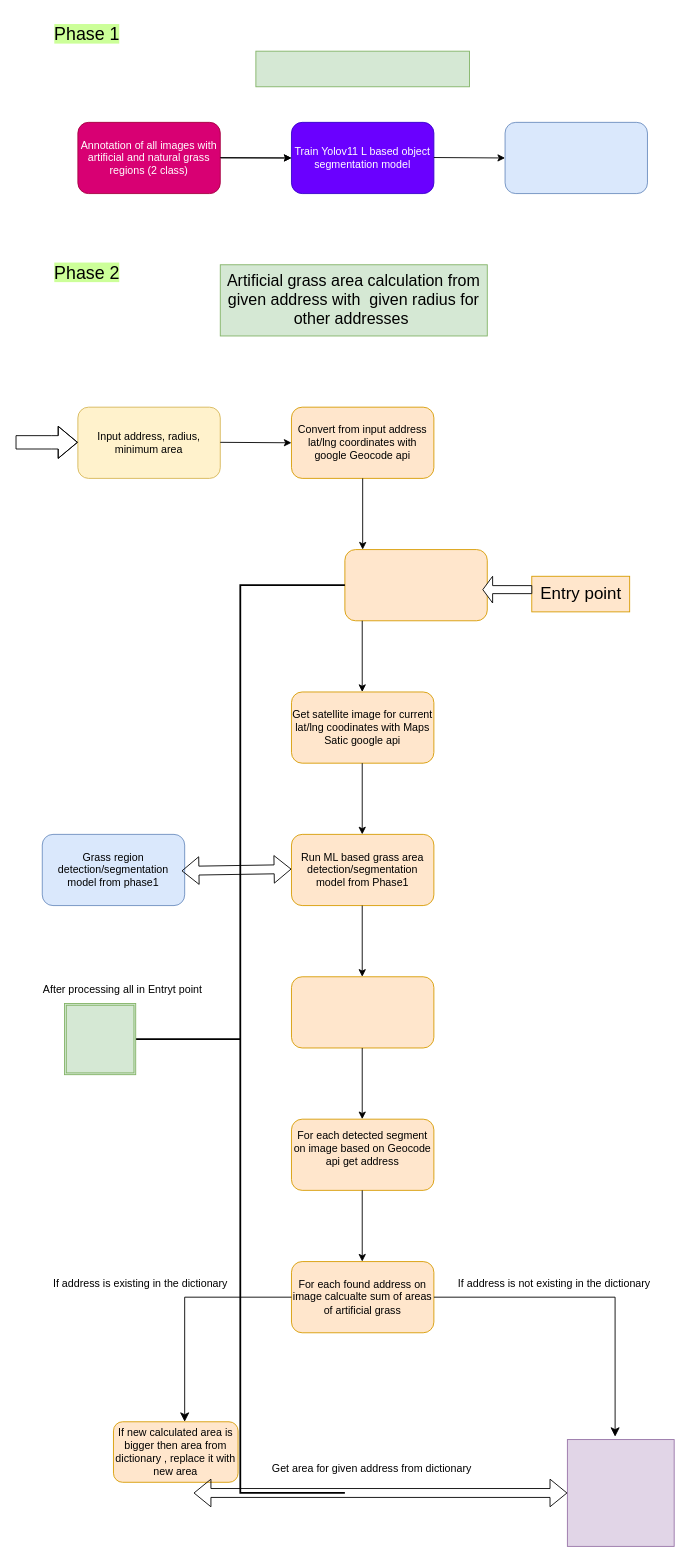
The diagram is 690 pixels wide and 1562 high, and some of its shapes have lost their labels. Each missing label, with the centre of its shape:
"Add data from dictionary into output csv file" goes at pixel 100 1039.
"Calculate real area in ft square for each detected/segmented region on image" goes at pixel 362 1012.
"Dictionary of addresses inside circle with calculated grass areas" goes at pixel 620 1492.
"Extract model" goes at pixel 575 157.
"Get all points lat/lng inside the circle with given radius" goes at pixel 415 585.
"Grass Area Detection ML based module" goes at pixel 362 68.
